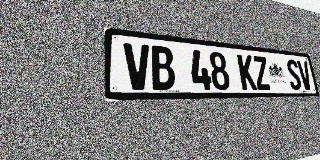4: (189, 49, 212, 90)
8: (208, 51, 231, 90)
B: (150, 45, 176, 90)
K: (237, 54, 257, 90)
S: (285, 59, 302, 90)
V: (123, 42, 152, 90), (297, 60, 313, 90)
Z: (252, 56, 271, 90)
